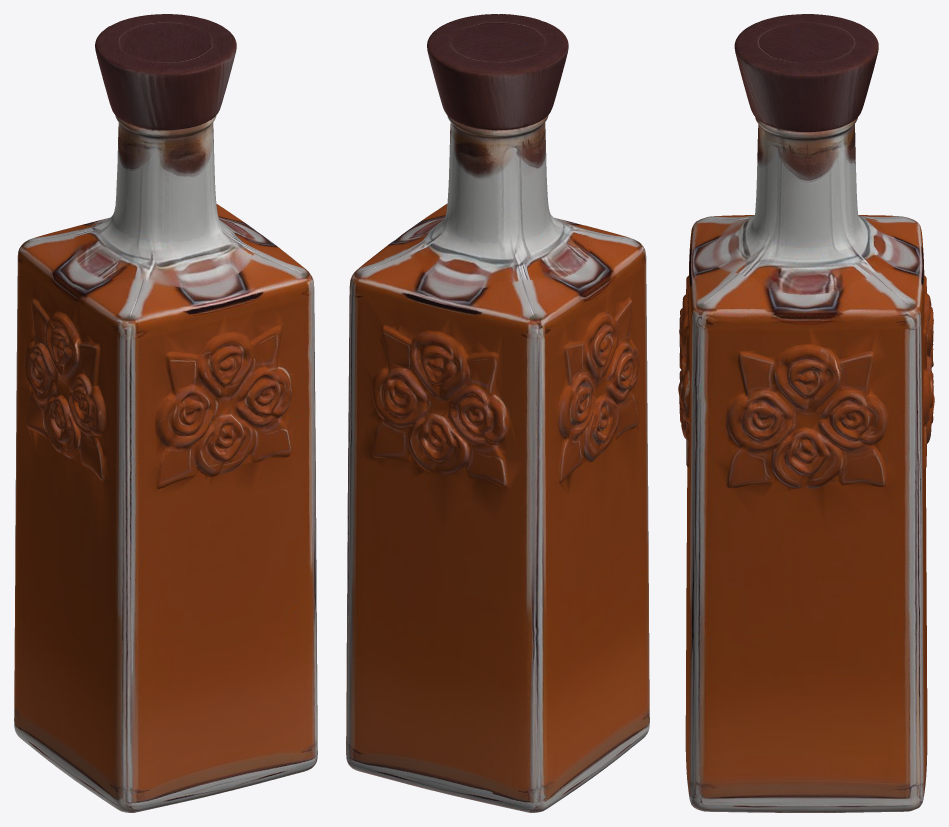
File: liquor_decanter.glb
3 views of the same model, side by side, from view 1: azimuth 30°, elevation 25°; view 2: azimuth 150°, elevation 25°; view 3: azimuth 270°, elevation 25° (orthographic).
Parts seen in each view (by area): view 1: mesh_node; view 2: mesh_node; view 3: mesh_node.
Boxes of the visible parts, left/top/right/bottom form: mesh_node: left=14, top=14, right=317, bottom=812; mesh_node: left=346, top=14, right=649, bottom=812; mesh_node: left=678, top=14, right=934, bottom=812.
Size of the model in its own units: 0.6095 by 1.9 by 0.6103.
Materials: 1 (1 with a texture image).
